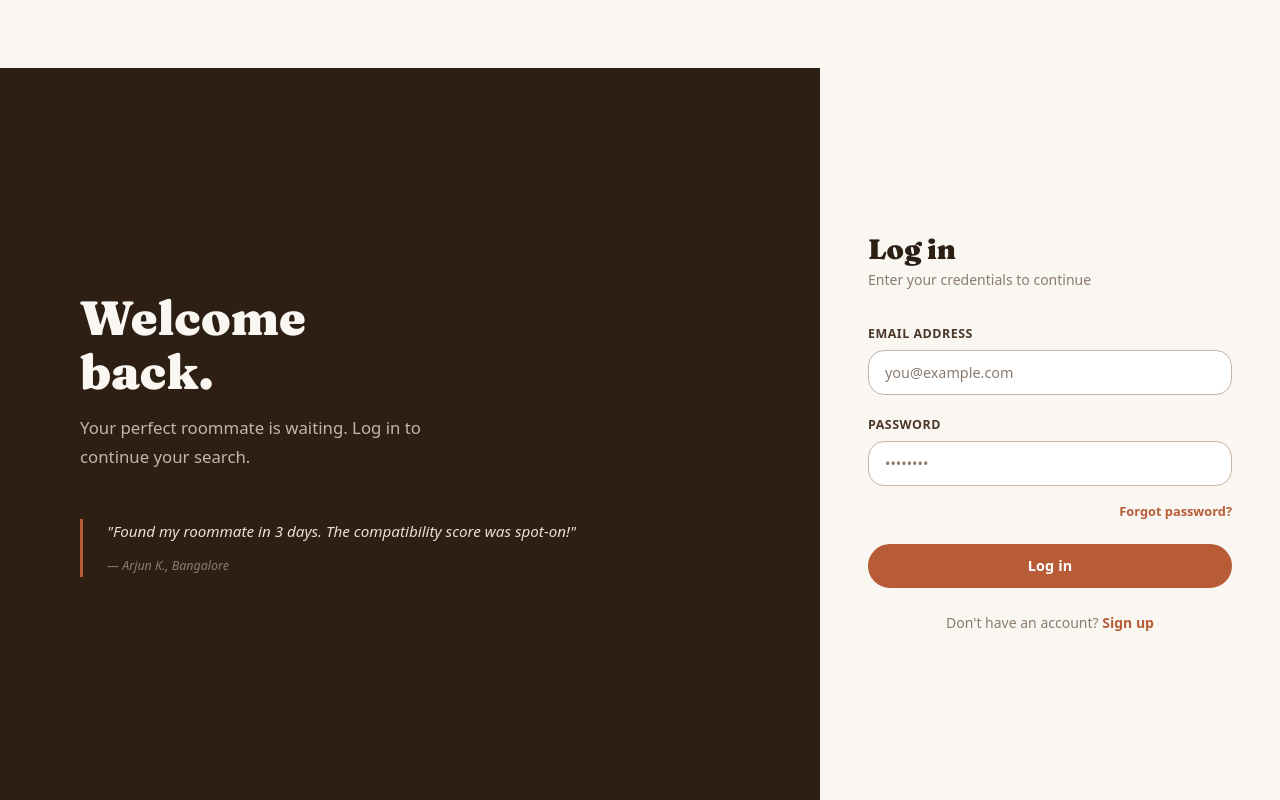
Test: Login page › shows validation error when fields empty
This screenshot has width=1280, height=800.
Click the button "Log in". click: (1050,566)
box: left=868, top=544, right=1232, bottom=588
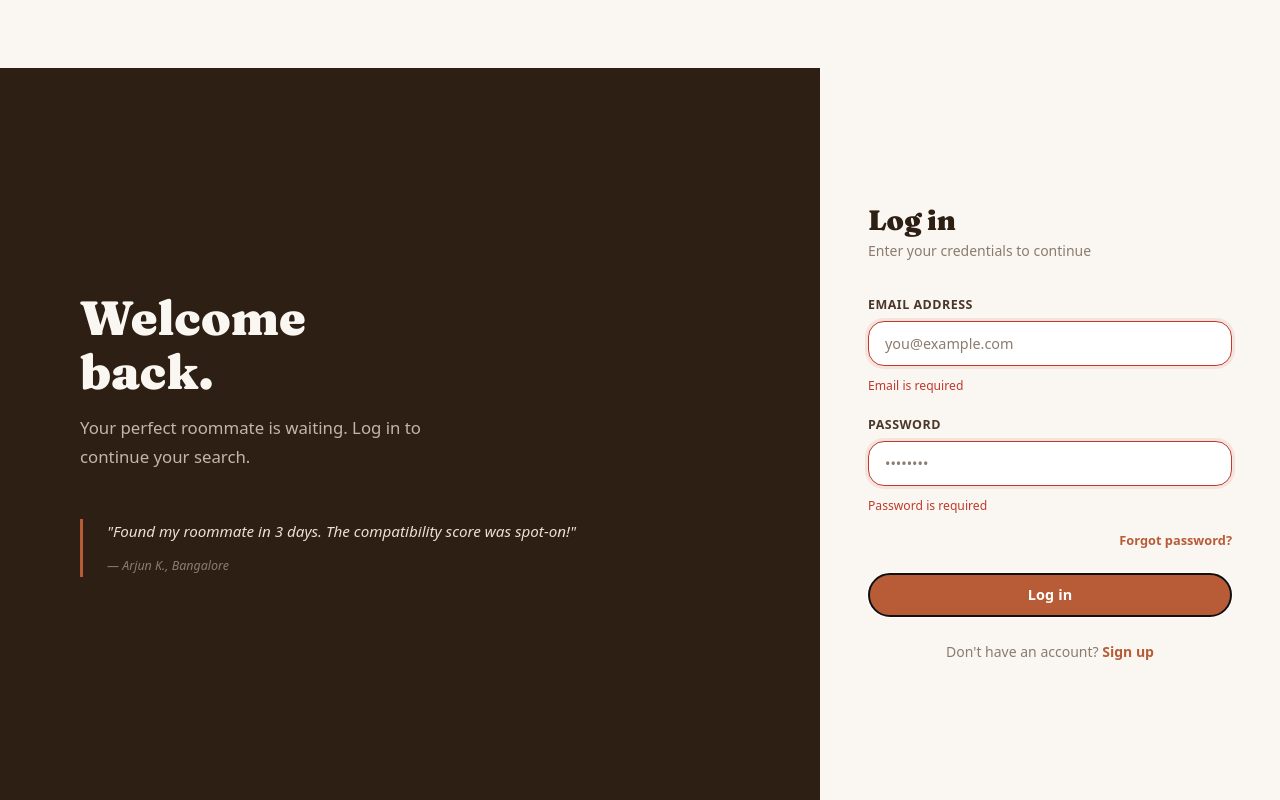
Check: the text "Email is required" is shown, box left=868, top=376, right=963, bottom=394
